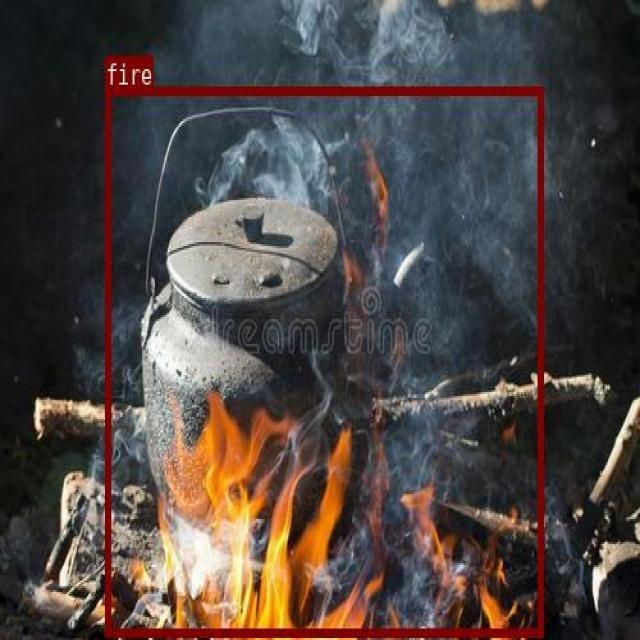fire: (104, 85, 541, 634)
